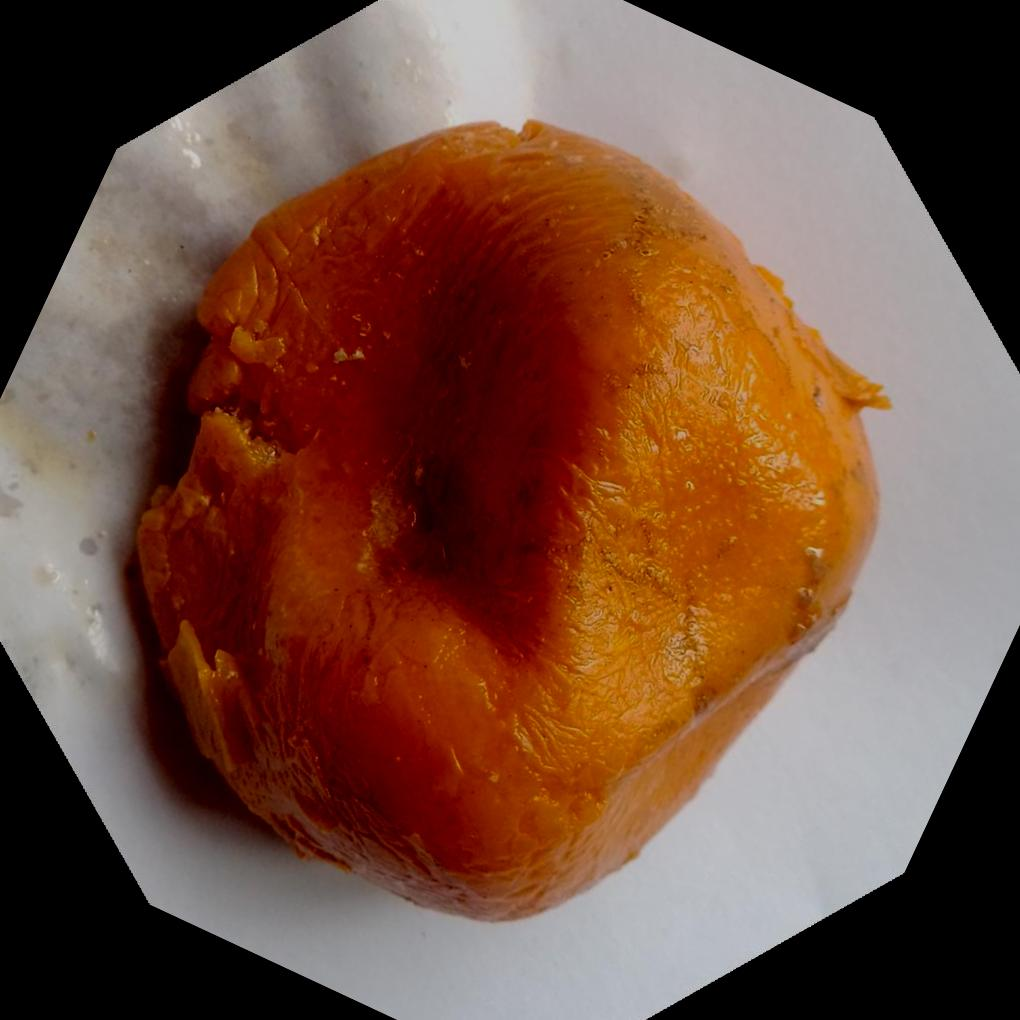FreshOrange: (131, 121, 891, 927)
